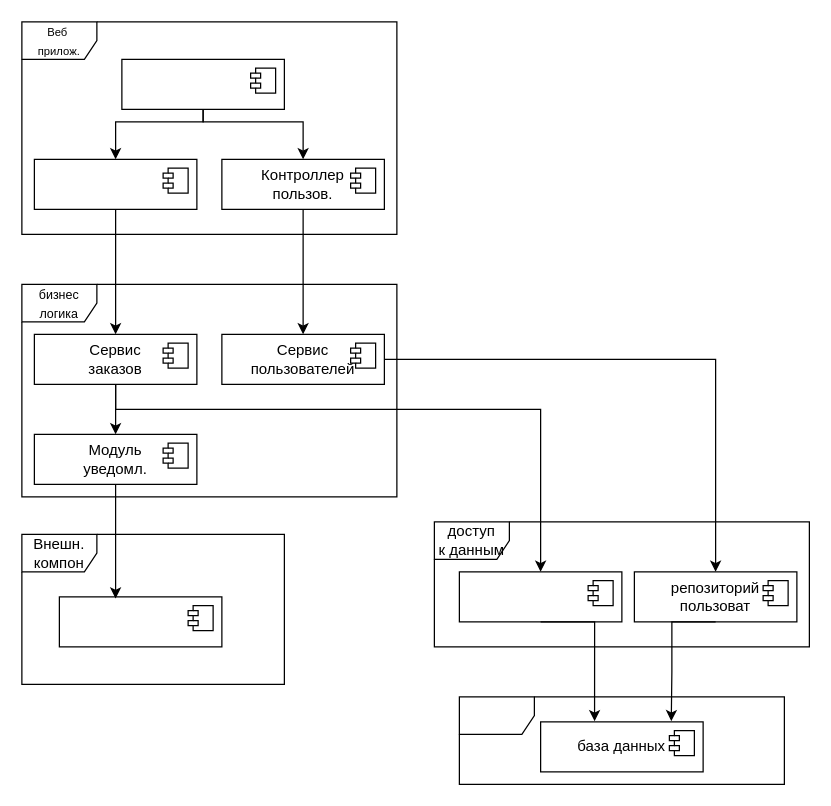
This 831x806 diagram has some shape labels left out. Each missing label, with the box of its shape:
Email сервер: (58, 596, 222, 647)
Веб интерфейс: (121, 58, 284, 109)
Контроллер заказов: (33, 158, 197, 209)
репозиторий заказов: (458, 571, 622, 622)
хранилище: (458, 696, 784, 784)
